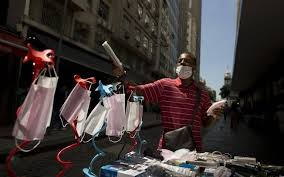mask_weared_incorrect: (175, 53, 197, 81)
